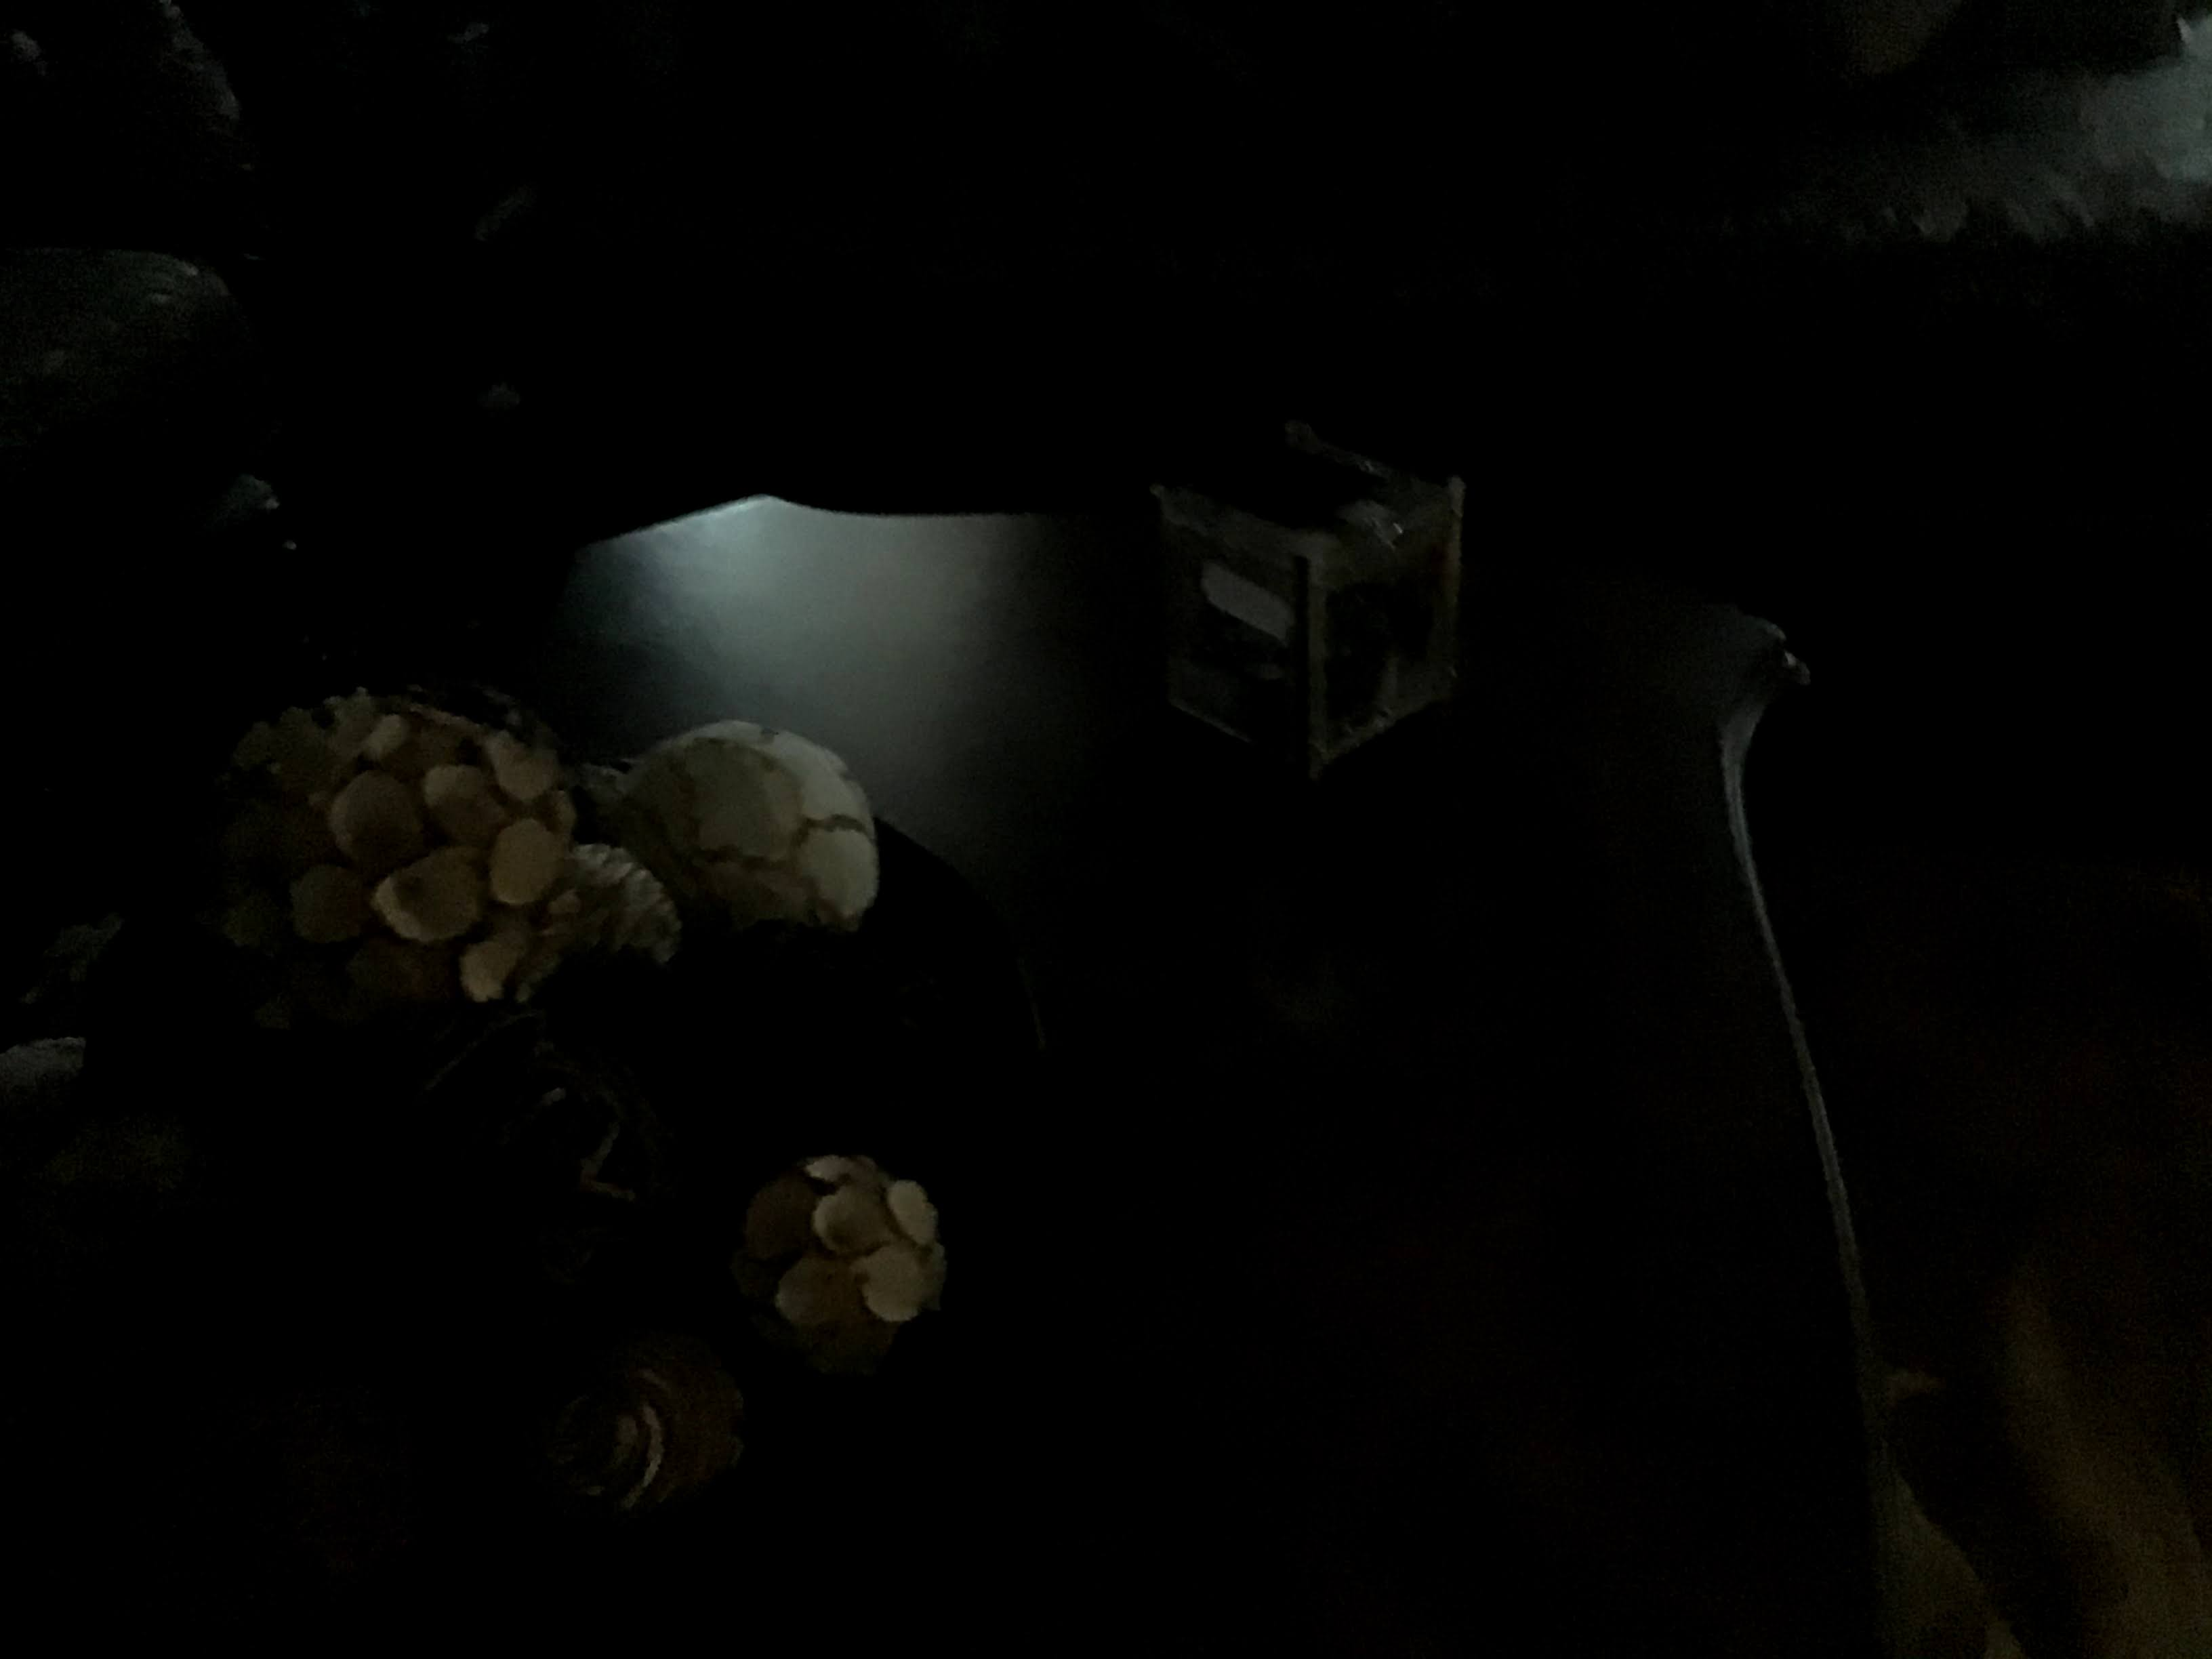Space-debris-cubesat: (1106, 436, 1494, 791)
